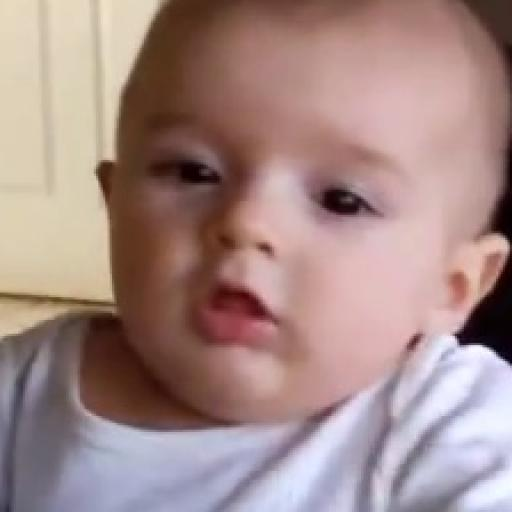Autism: (141, 2, 512, 457)
